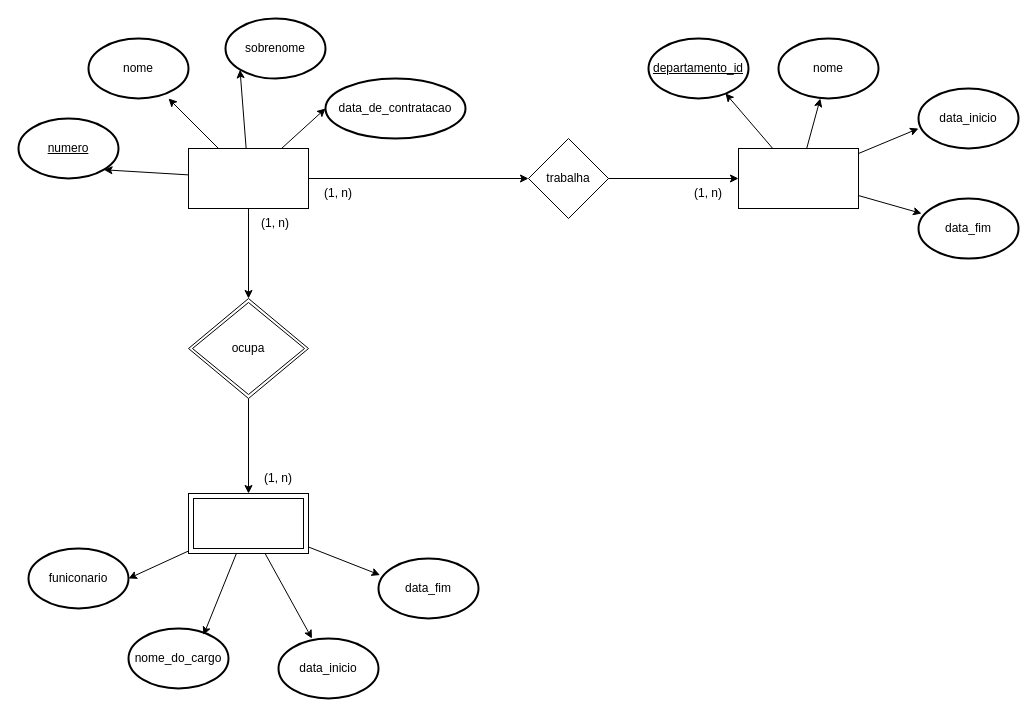
The diagram is 1036 pixels wide and 716 high, and some of its shapes have lost their labels. The shapes that lost their labels are listed below. From the top down, each one's centre as x and y in pixels, then its label:
At [248,178]: "Funcionário".
At [798,178]: "Departamento".
At [248,523]: "Cargo".
